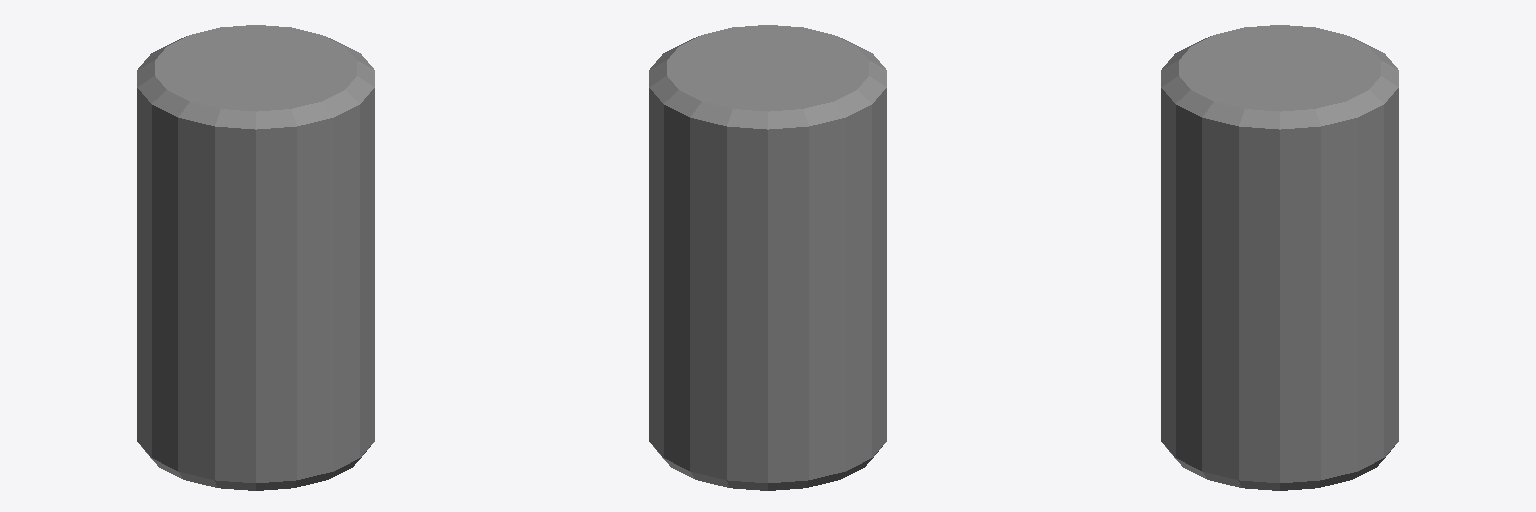
File: LH_cants.obj
3 views of the same model, side by side, from view 1: azimuth 30°, elevation 25°; view 2: azimuth 150°, elevation 25°; view 3: azimuth 270°, elevation 25° (orthographic).
Visible parts, largest first — view 1: Cylinder001; view 2: Cylinder001; view 3: Cylinder001.
Part boxes in pixels (bbox=[...]): Cylinder001: bbox=[137, 25, 374, 490]; Cylinder001: bbox=[649, 25, 886, 490]; Cylinder001: bbox=[1161, 25, 1398, 490].
Size of the model in its own units: 1.78 by 3.06 by 1.76.